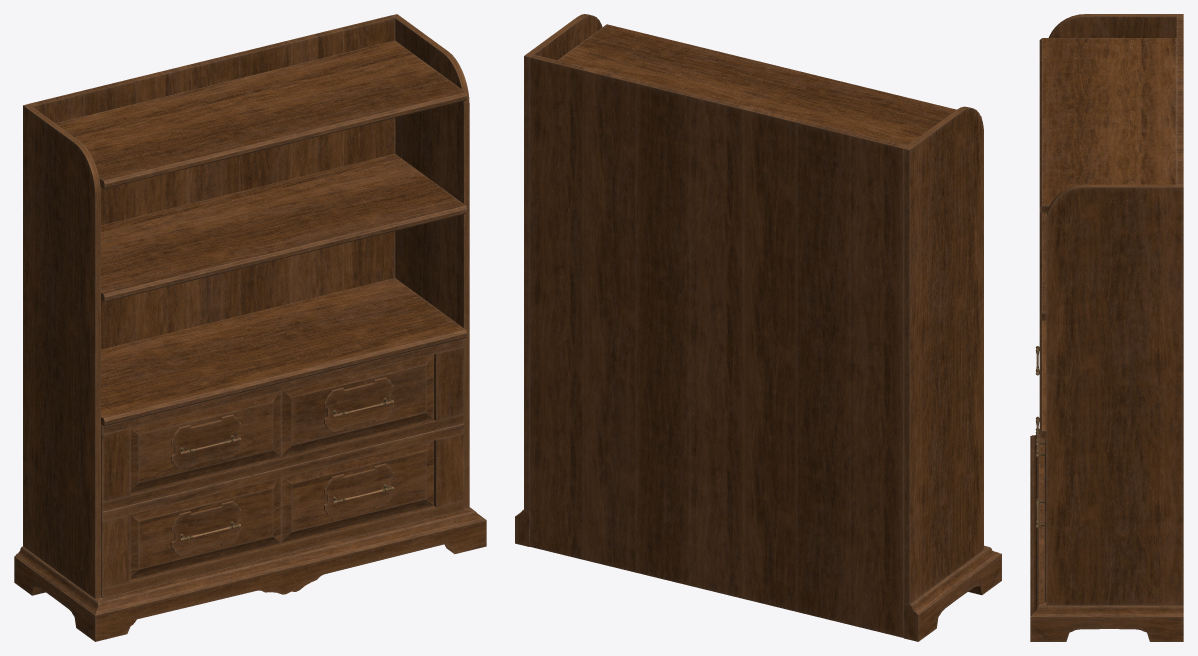
The model's file is rak.glb.
3 views of the same model, side by side, from view 1: azimuth 30°, elevation 25°; view 2: azimuth 150°, elevation 25°; view 3: azimuth 270°, elevation 25° (orthographic). The views are drawn at different scales.
Visible parts, largest first — view 1: Bookcase; view 2: Bookcase; view 3: Bookcase.
Boxes of the visible parts, x1,y1,x2,y2 form: Bookcase: (14,14,486,641); Bookcase: (515,14,1001,641); Bookcase: (1030,14,1183,641).
Size of the model in its own units: 1.12 by 1.3 by 0.4016.
Materials: 1 (1 with a texture image).
